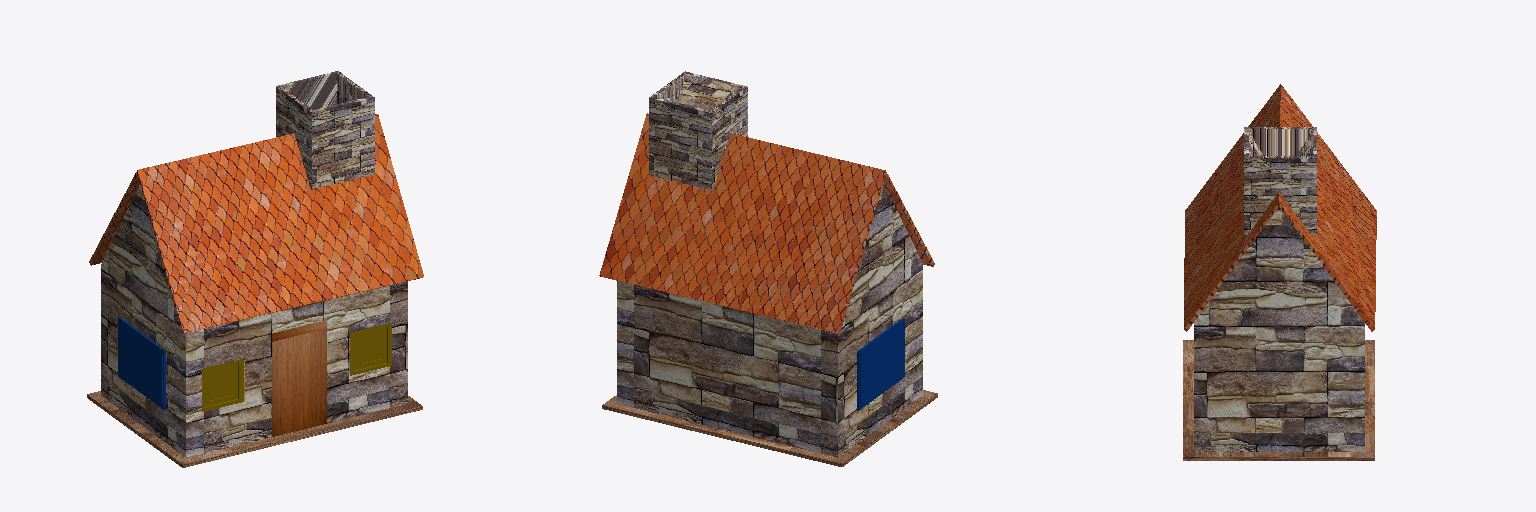
3 views of the same model, side by side, from view 1: azimuth 30°, elevation 25°; view 2: azimuth 150°, elevation 25°; view 3: azimuth 270°, elevation 25° (orthographic).
Visible parts, largest first — view 1: Prism001, object 1, Box002, SlidingDoor001, Box003, FixedWindow001, AwningWindow001, AwningWindow002; view 2: object 1, Prism001, Box002, Box003, FixedWindow001; view 3: object 1, Prism001, Box002, Box003.
Boxes of the visible parts, box(x1,y1,x2,y2) form: Prism001: box(89, 114, 423, 333); object 1: box(101, 185, 407, 457); Box002: box(276, 71, 374, 189); SlidingDoor001: box(272, 321, 326, 436); Box003: box(87, 361, 422, 467); FixedWindow001: box(118, 317, 165, 409); AwningWindow001: box(350, 323, 391, 375); AwningWindow002: box(202, 359, 243, 411); object 1: box(617, 183, 922, 457); Prism001: box(599, 113, 934, 333); Box002: box(649, 71, 747, 189); Box003: box(602, 390, 937, 466); FixedWindow001: box(857, 318, 904, 410); object 1: box(1194, 207, 1364, 451); Prism001: box(1184, 84, 1376, 331); Box002: box(1244, 127, 1316, 234); Box003: box(1183, 340, 1374, 460).
Bounding box in the file's own units: 65.92 × 76.2 × 45.48.
Materials: 6 (4 with a texture image).